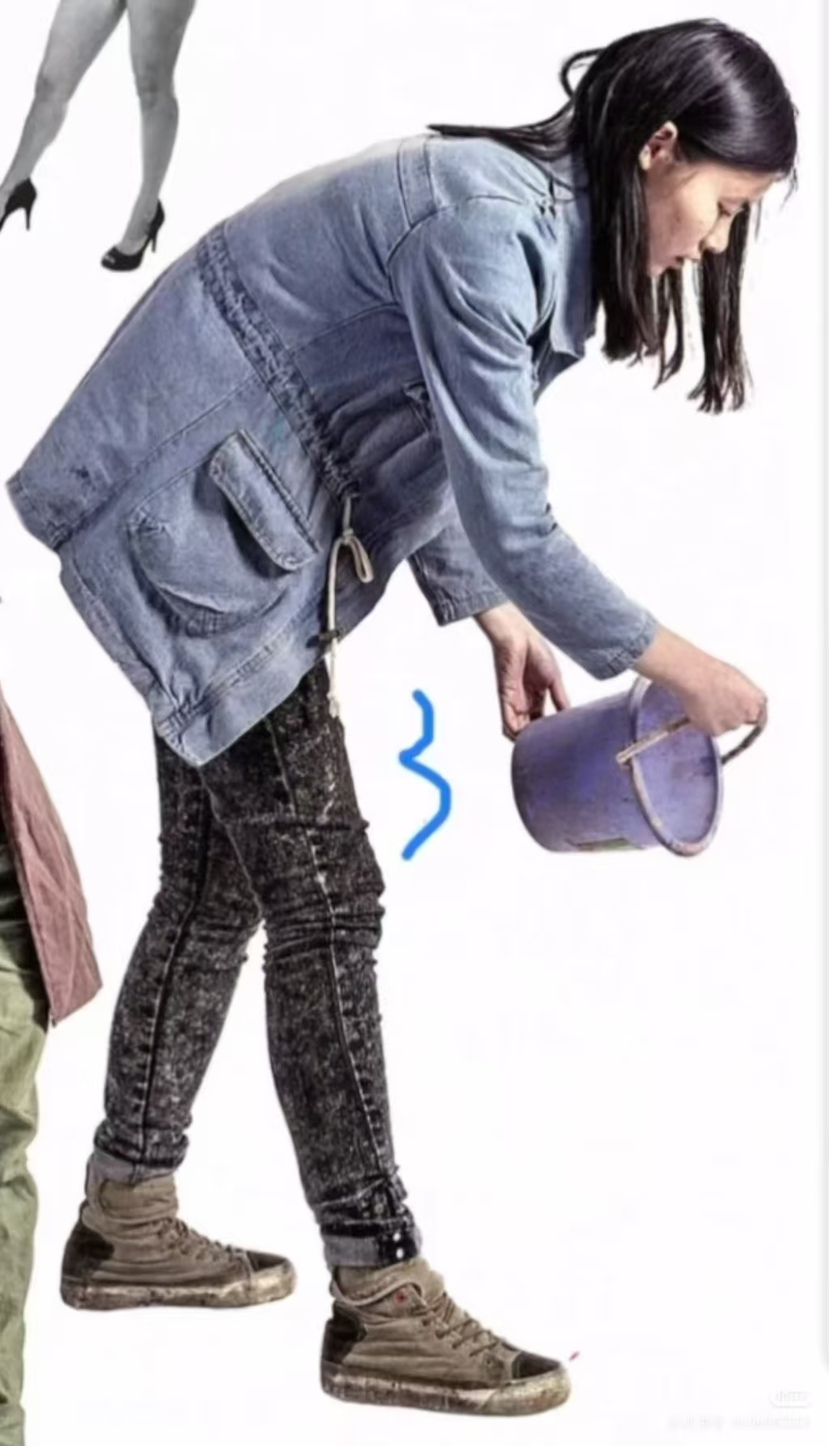bending: (19, 19, 805, 1413)
